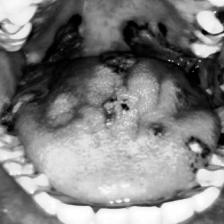Non-Cancerous Skin Condition: (5, 70, 60, 122), (46, 20, 93, 65), (104, 50, 139, 74)
